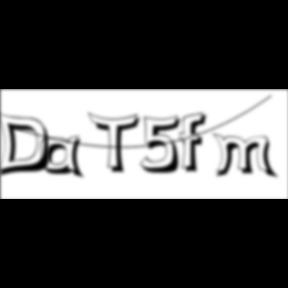5: (140, 114, 186, 176)
D: (1, 110, 58, 180)
T: (88, 112, 146, 176)
a: (41, 135, 89, 182)
f: (180, 111, 212, 175)
m: (212, 132, 280, 181)
